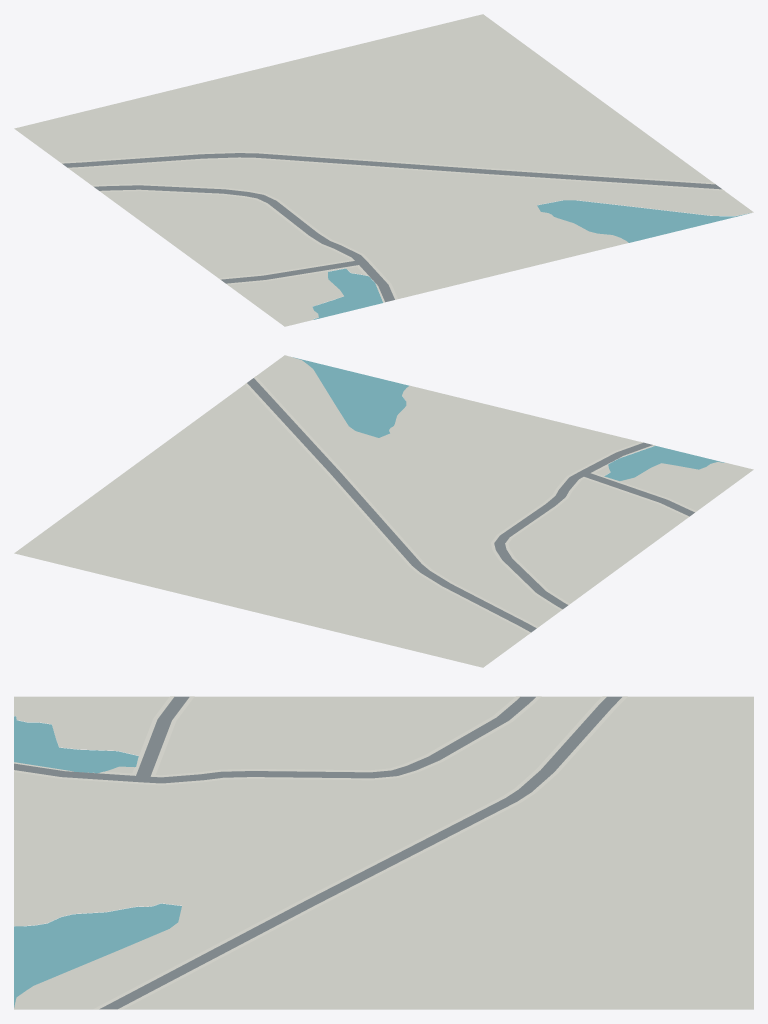
3 renders of one model, top to bottom at view 1: azimuth 30°, elevation 25°; view 2: azimuth 150°, elevation 25°; view 3: azimuth 270°, elevation 25°, orthographic. The views are drawn at different scales.
Visible parts, largest first — view 1: city; view 2: city; view 3: city.
Part boxes in pixels (<box>): city: <box>14,14,753,326</box>; city: <box>14,355,753,667</box>; city: <box>14,696,753,1009</box>.
Bounding box in the file's own units: 500 × 0.4 × 500.
